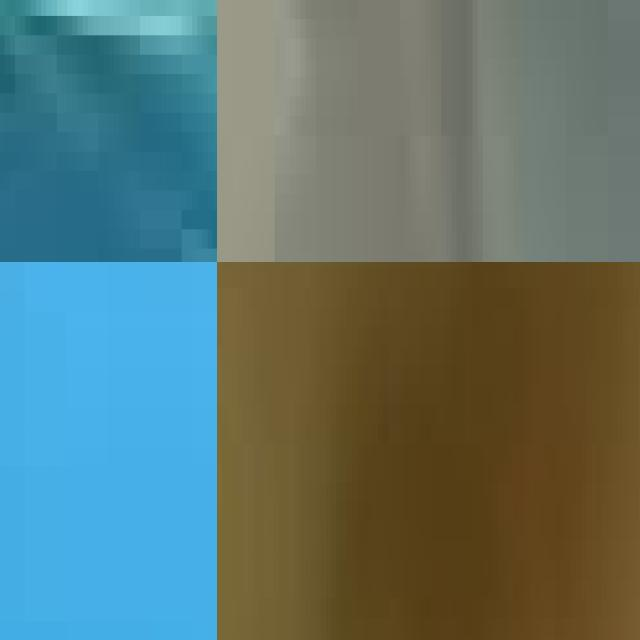fish: (217, 0, 640, 262), (0, 0, 217, 262)
